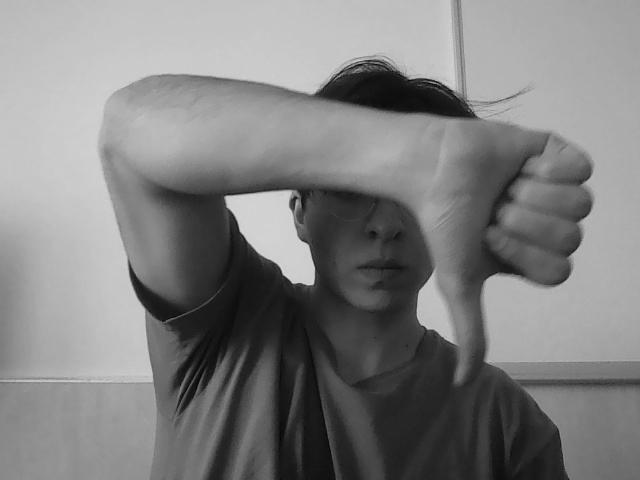bad: (427, 105, 613, 401)
